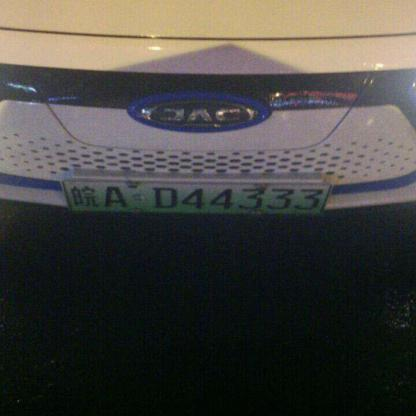lp: (61, 179, 331, 214)
